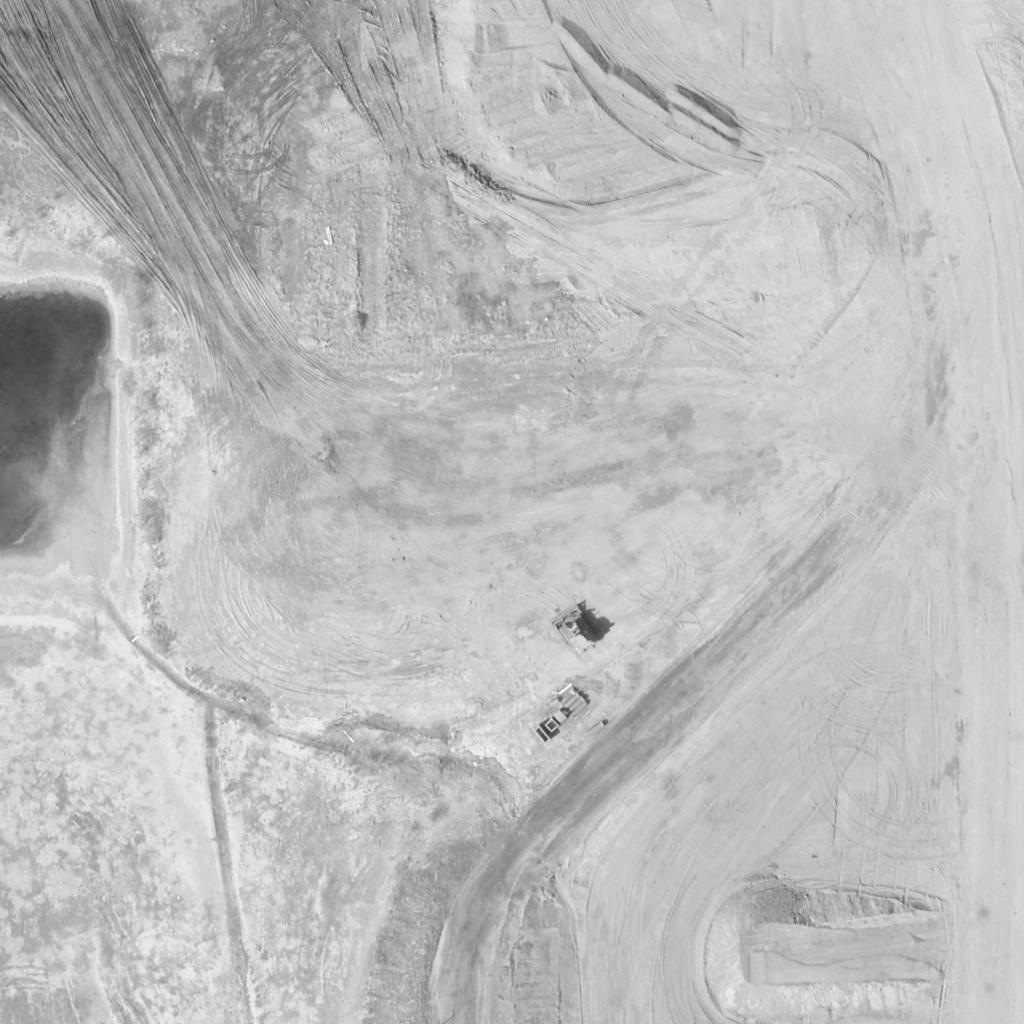vehicle: (552, 606, 604, 658)
